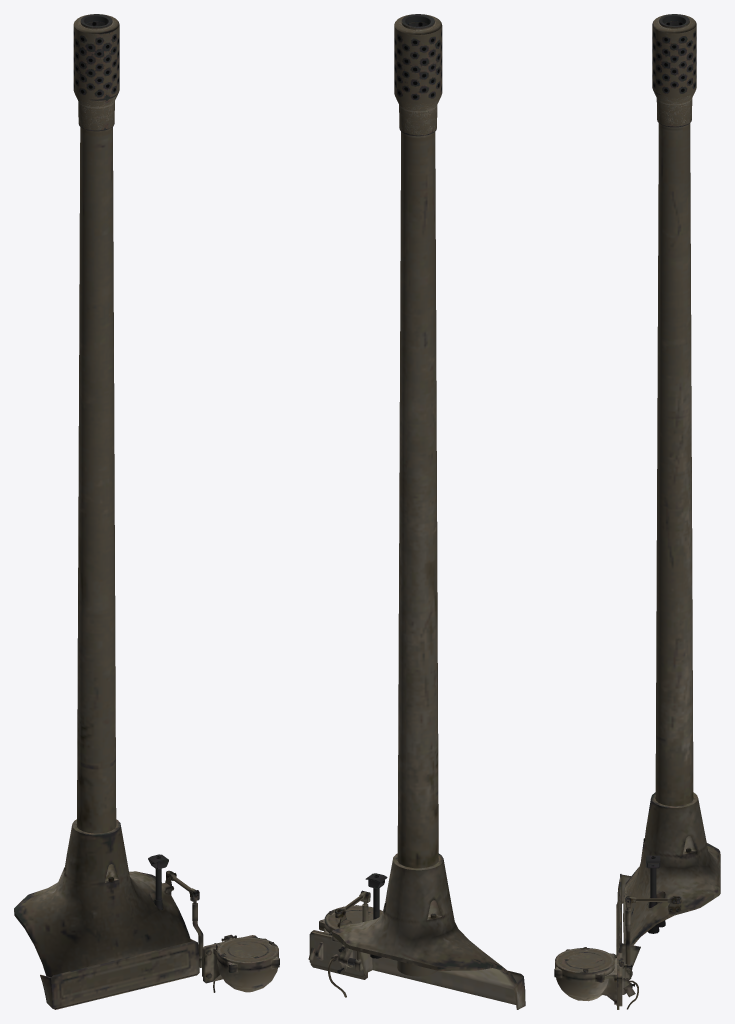
Rendered from Gun_02.glb.
3 views of the same model, side by side, from view 1: azimuth 30°, elevation 25°; view 2: azimuth 150°, elevation 25°; view 3: azimuth 270°, elevation 25° (orthographic). The views are drawn at different scales.
Visible parts, largest first — view 1: set_0_group_0; view 2: set_0_group_0; view 3: set_0_group_0.
Part boxes in pixels (left/top/right/bottom): set_0_group_0: left=14, top=14, right=279, bottom=1009; set_0_group_0: left=308, top=14, right=525, bottom=1009; set_0_group_0: left=554, top=14, right=720, bottom=1009.
Bounding box in the file's own units: 1.3 × 5.86 × 0.9352.
1 material, 1 textured.
